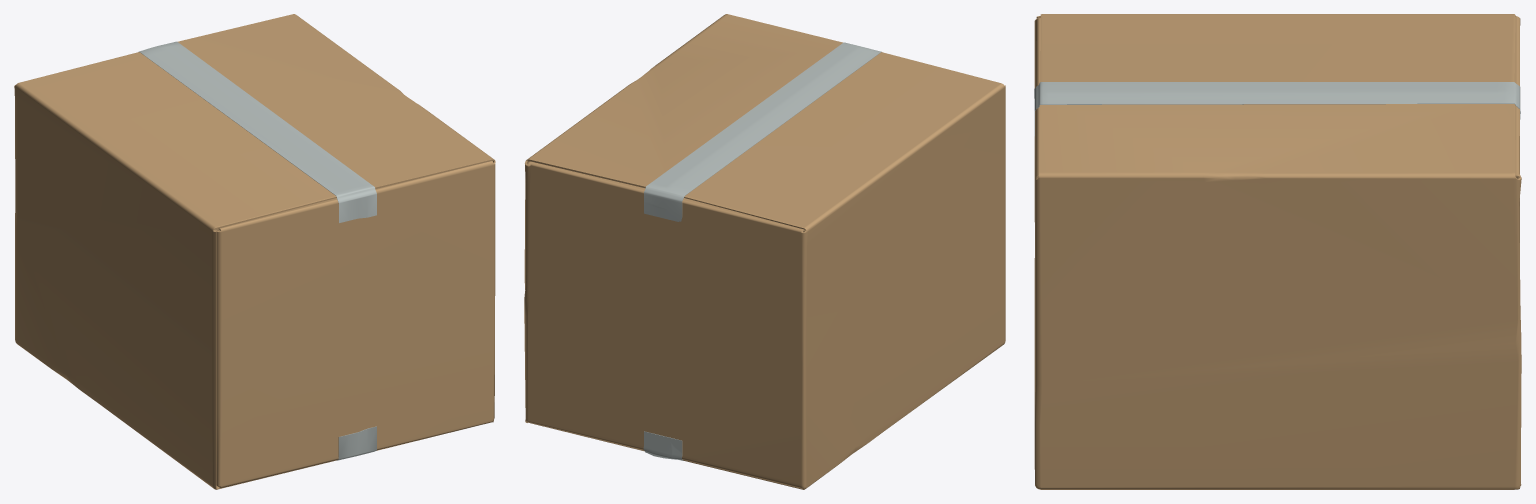
File: box_printer_white_b04.glb
3 views of the same model, side by side, from view 1: azimuth 30°, elevation 25°; view 2: azimuth 150°, elevation 25°; view 3: azimuth 270°, elevation 25° (orthographic). The views are drawn at different scales.
Size of the model in its own units: 0.2234 by 0.204 by 0.2786.
